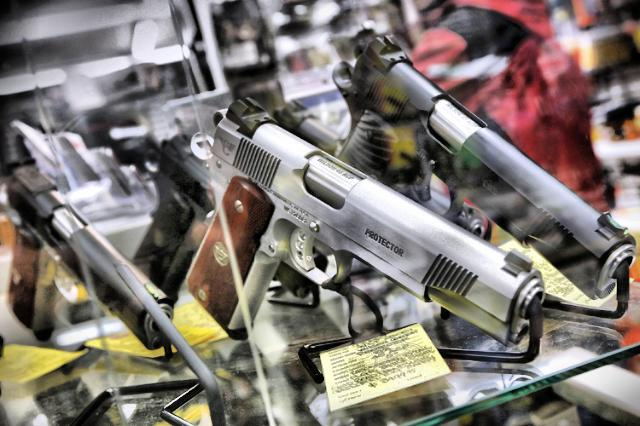pistol: (147, 95, 547, 346), (318, 28, 632, 296), (2, 146, 226, 394)
